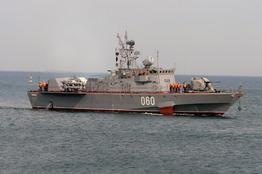warship: (26, 28, 244, 117)
